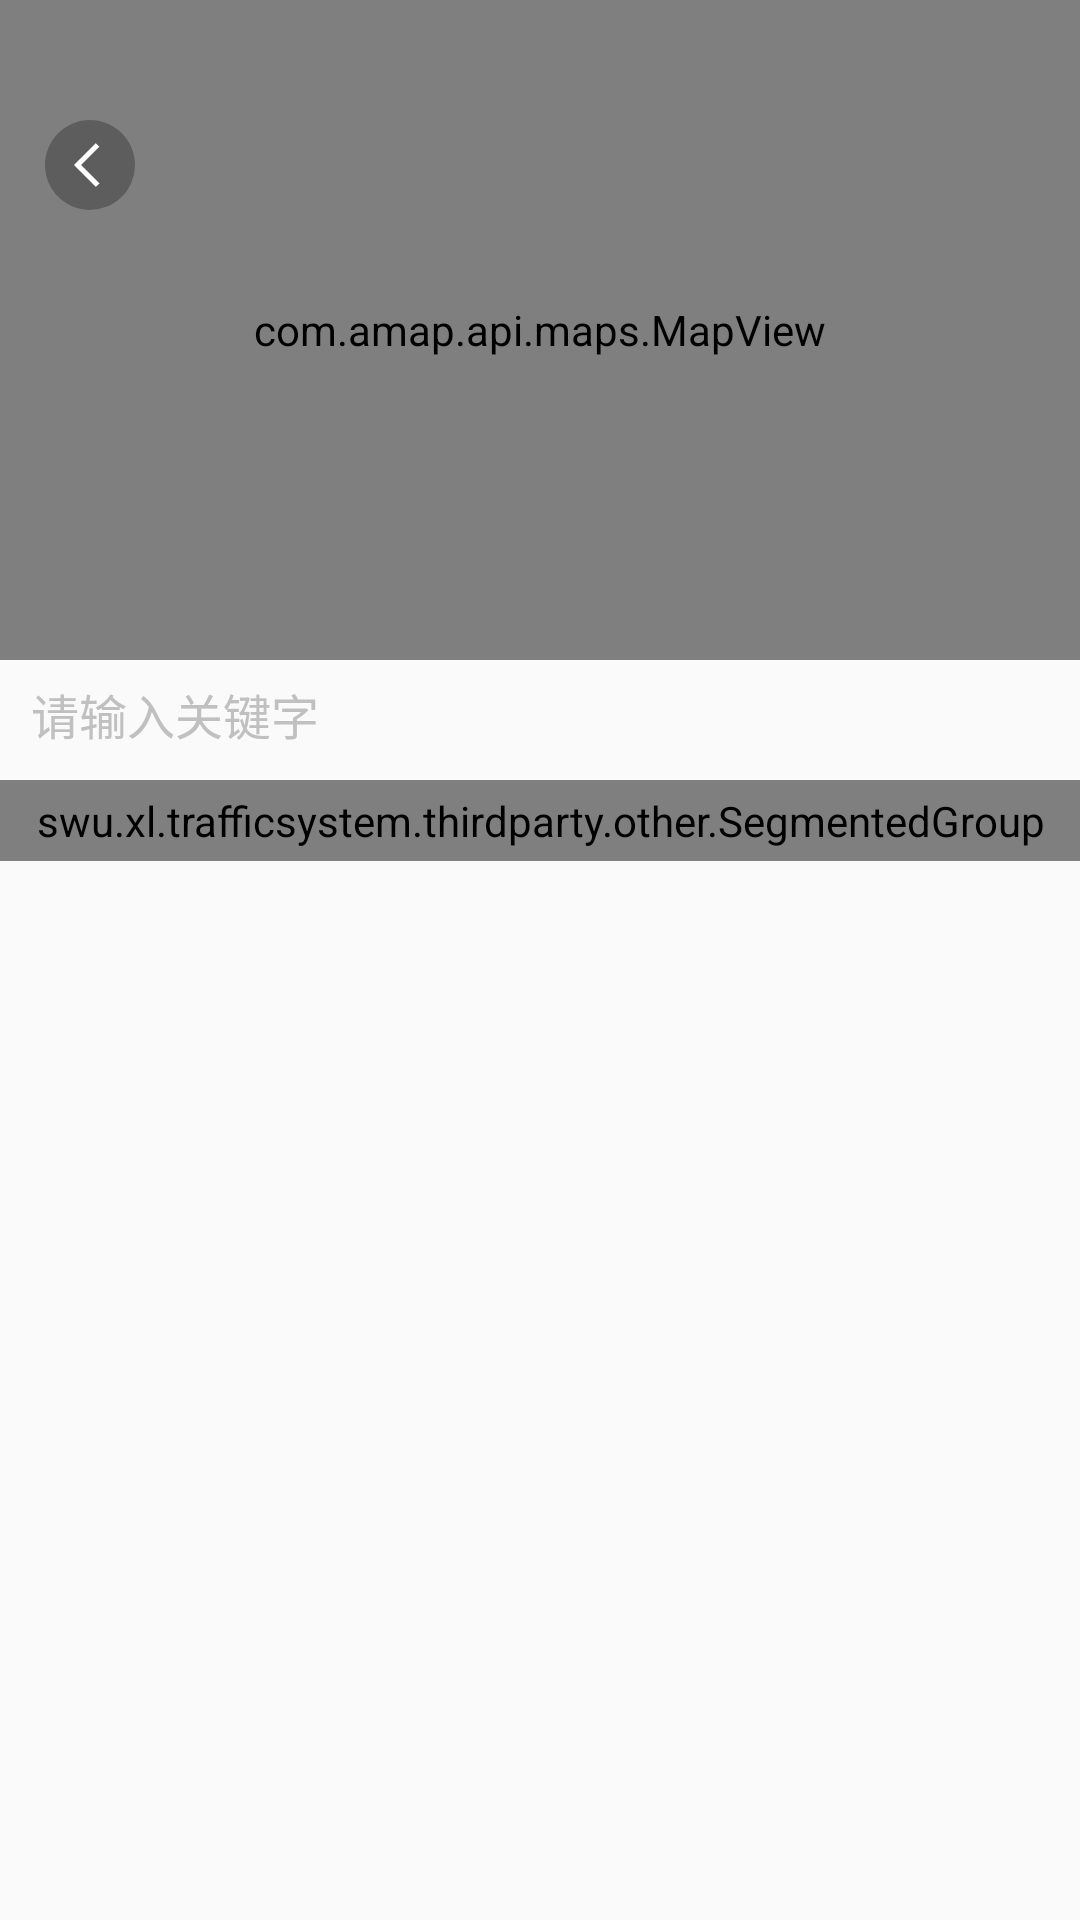

Locate icon controls on the screen. Image size 1080w x 1920h, boxes as (x1, y1, x2, y2).
map back: (45, 120, 135, 210)
